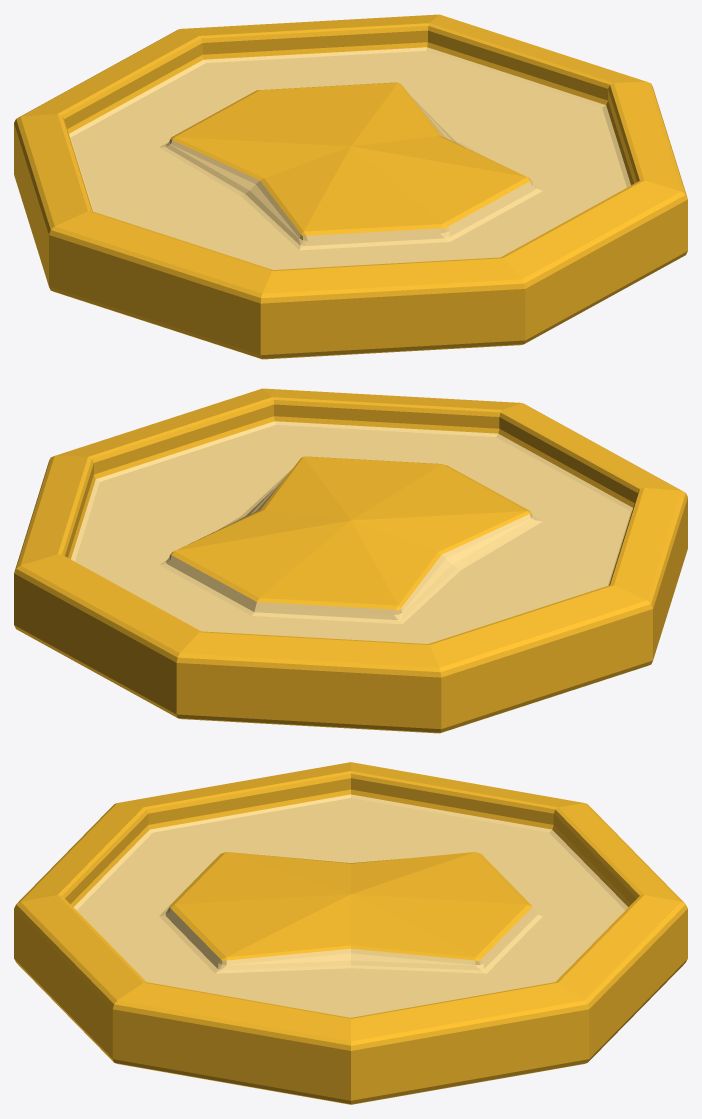
The model's file is money.glb.
3 views of the same model, one above another, from view 1: azimuth 30°, elevation 25°; view 2: azimuth 150°, elevation 25°; view 3: azimuth 270°, elevation 25° (orthographic). The views are drawn at different scales.
Visible parts, largest first — view 1: Cylinder; view 2: Cylinder; view 3: Cylinder.
Part boxes in pixels (x1=…): Cylinder: x1=14, y1=14, x2=687, y2=359; Cylinder: x1=14, y1=388, x2=687, y2=733; Cylinder: x1=14, y1=762, x2=687, y2=1104.
Bounding box in the file's own units: 0.05 × 0.00642 × 0.05.
